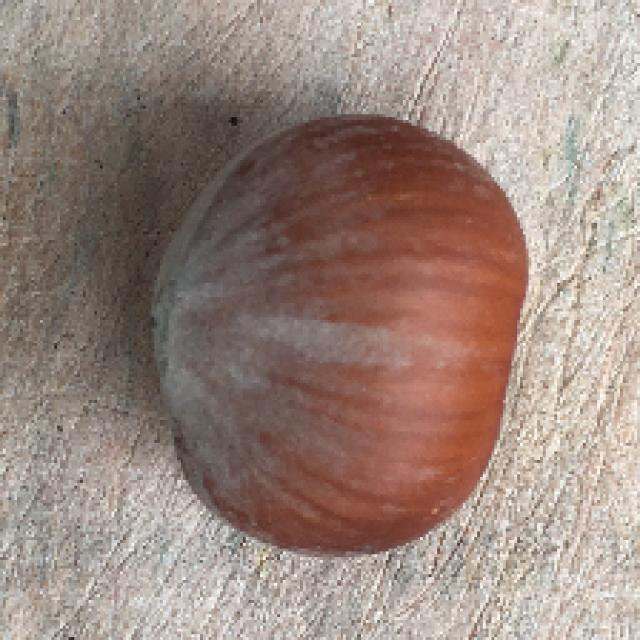QualityHazelnut: (149, 113, 528, 563)
